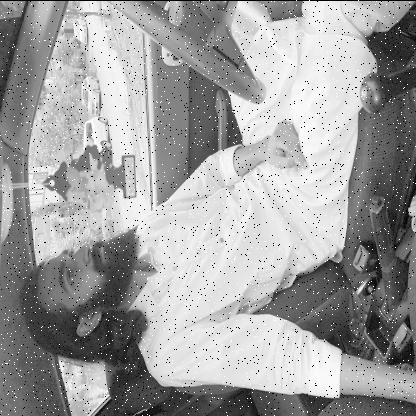no_seatbelt: (0, 201, 255, 355)
